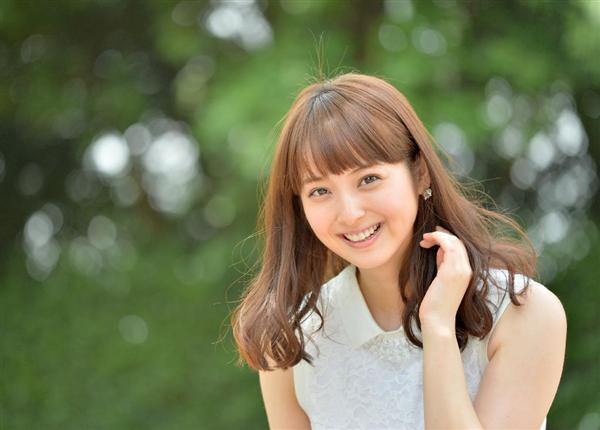face: (300, 136, 431, 269)
hand: (418, 226, 472, 322)
